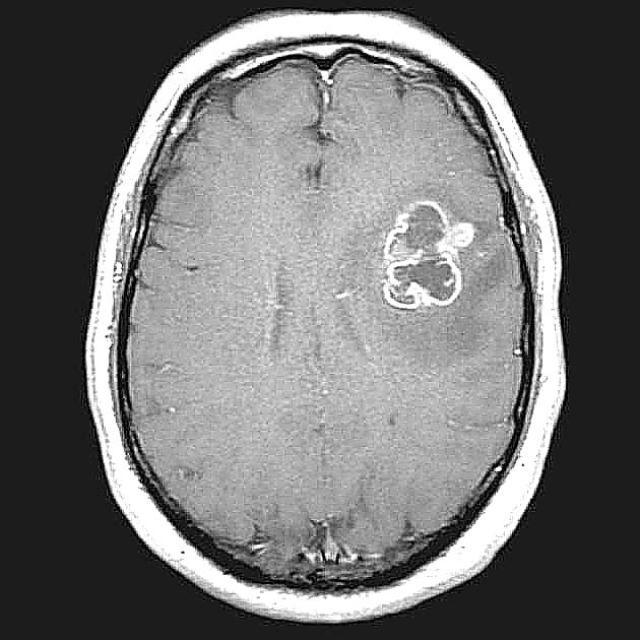brain tumor: (383, 203, 473, 309)
